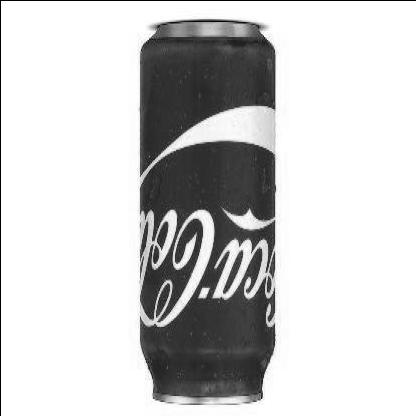alumunium_can: (136, 19, 276, 408)
